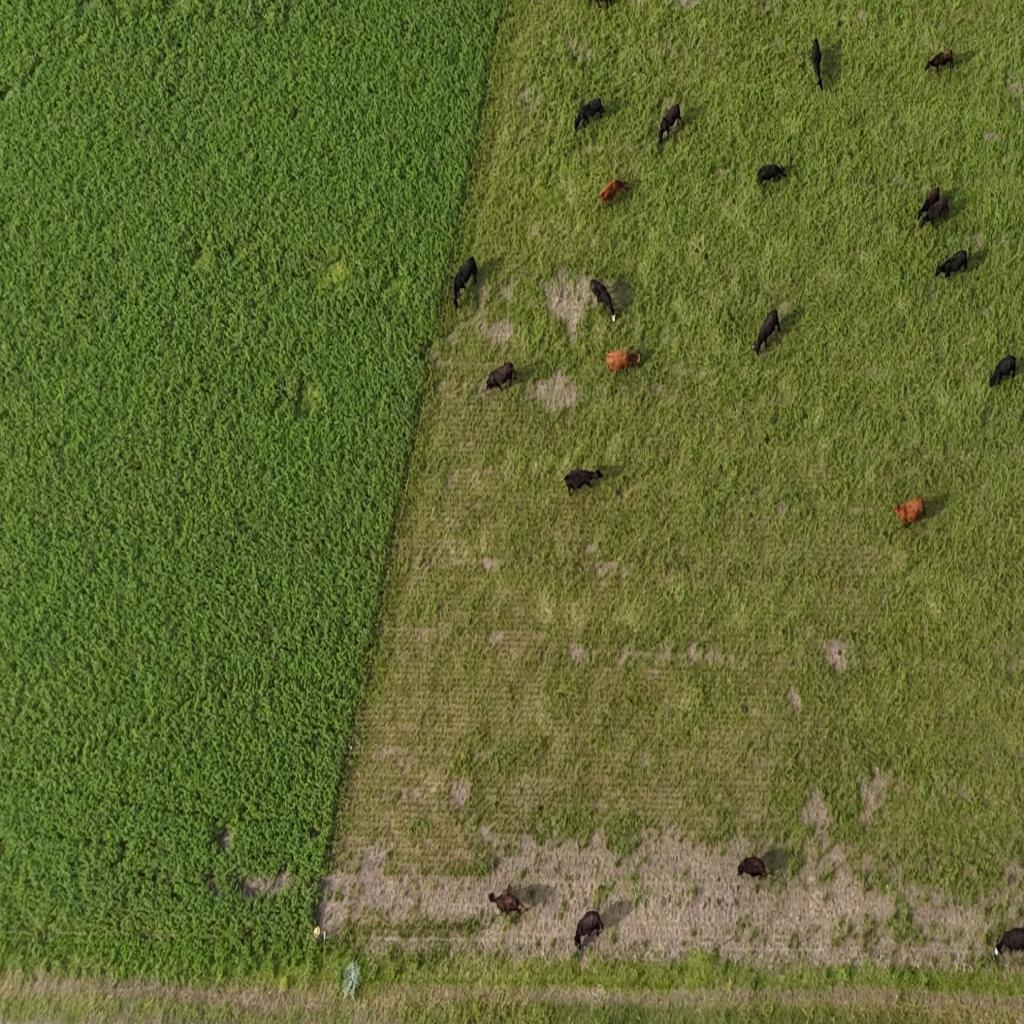cow: (573, 910, 604, 951), (590, 278, 618, 323), (453, 257, 477, 308), (754, 308, 780, 355), (605, 346, 642, 376), (488, 889, 526, 918), (993, 925, 1024, 958), (574, 98, 604, 132), (658, 103, 682, 145), (564, 468, 602, 494), (988, 356, 1018, 388), (935, 250, 967, 280), (918, 196, 948, 228), (486, 362, 516, 392), (893, 499, 925, 527), (599, 179, 629, 208), (737, 856, 766, 882), (925, 50, 953, 75), (810, 37, 823, 90), (756, 164, 787, 186)
